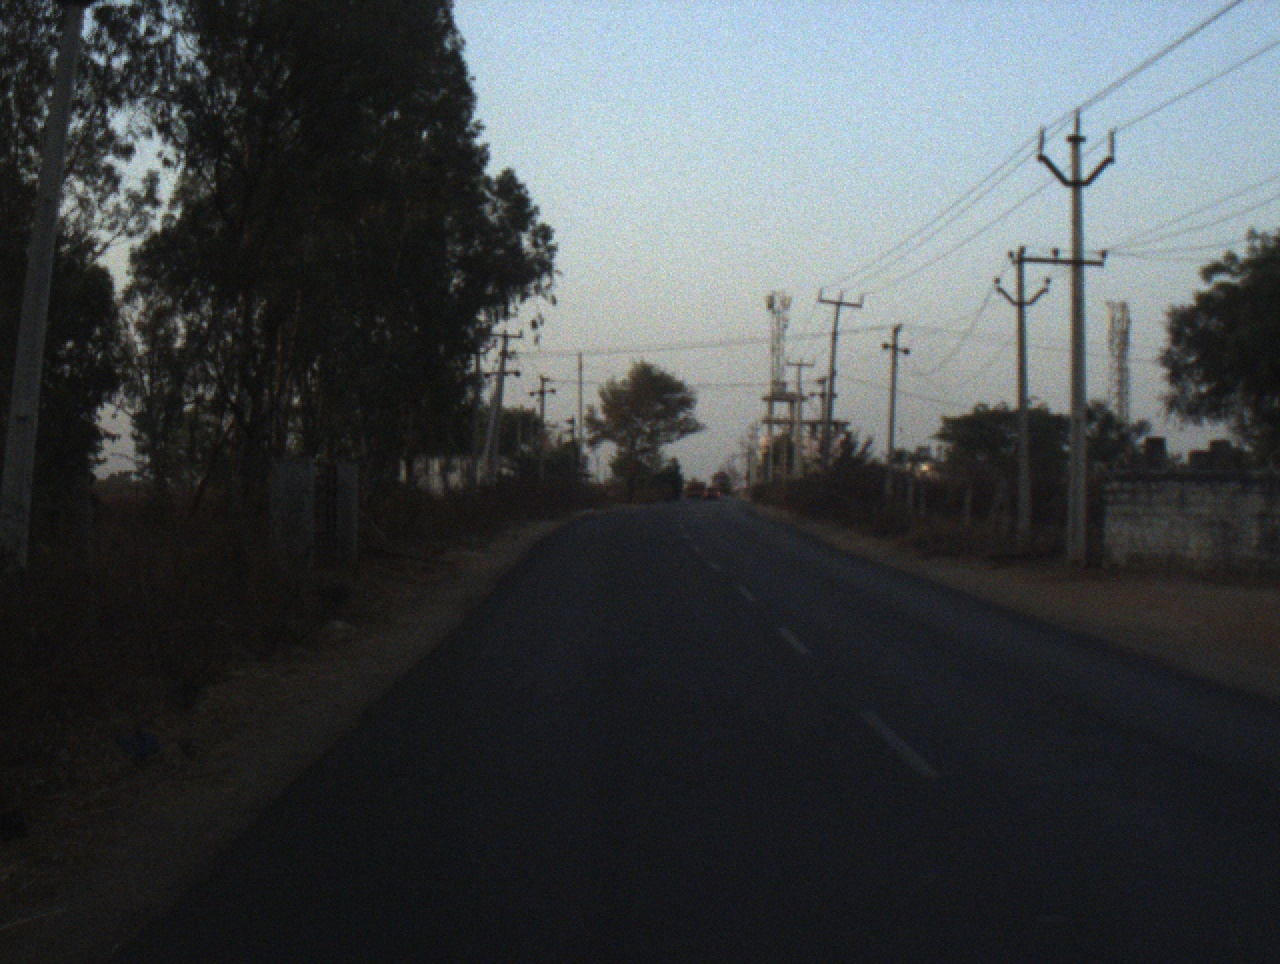autorickshaw: (686, 475, 703, 498)
car: (701, 486, 720, 502)
truck: (709, 467, 732, 495)
